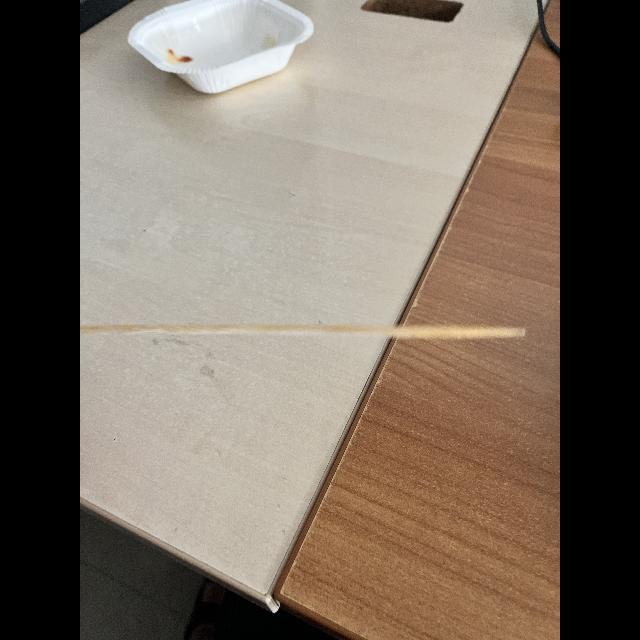cardboard_bowl: (111, 4, 337, 104)
stick: (80, 278, 544, 380)
